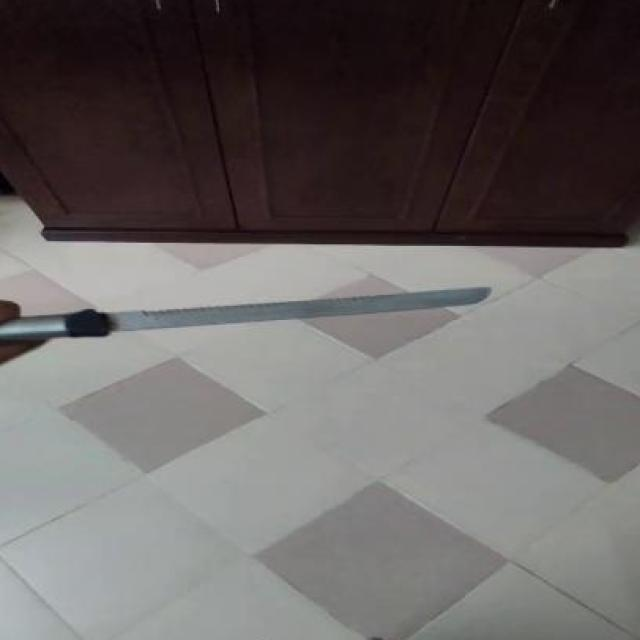Knife: (5, 269, 507, 355)
